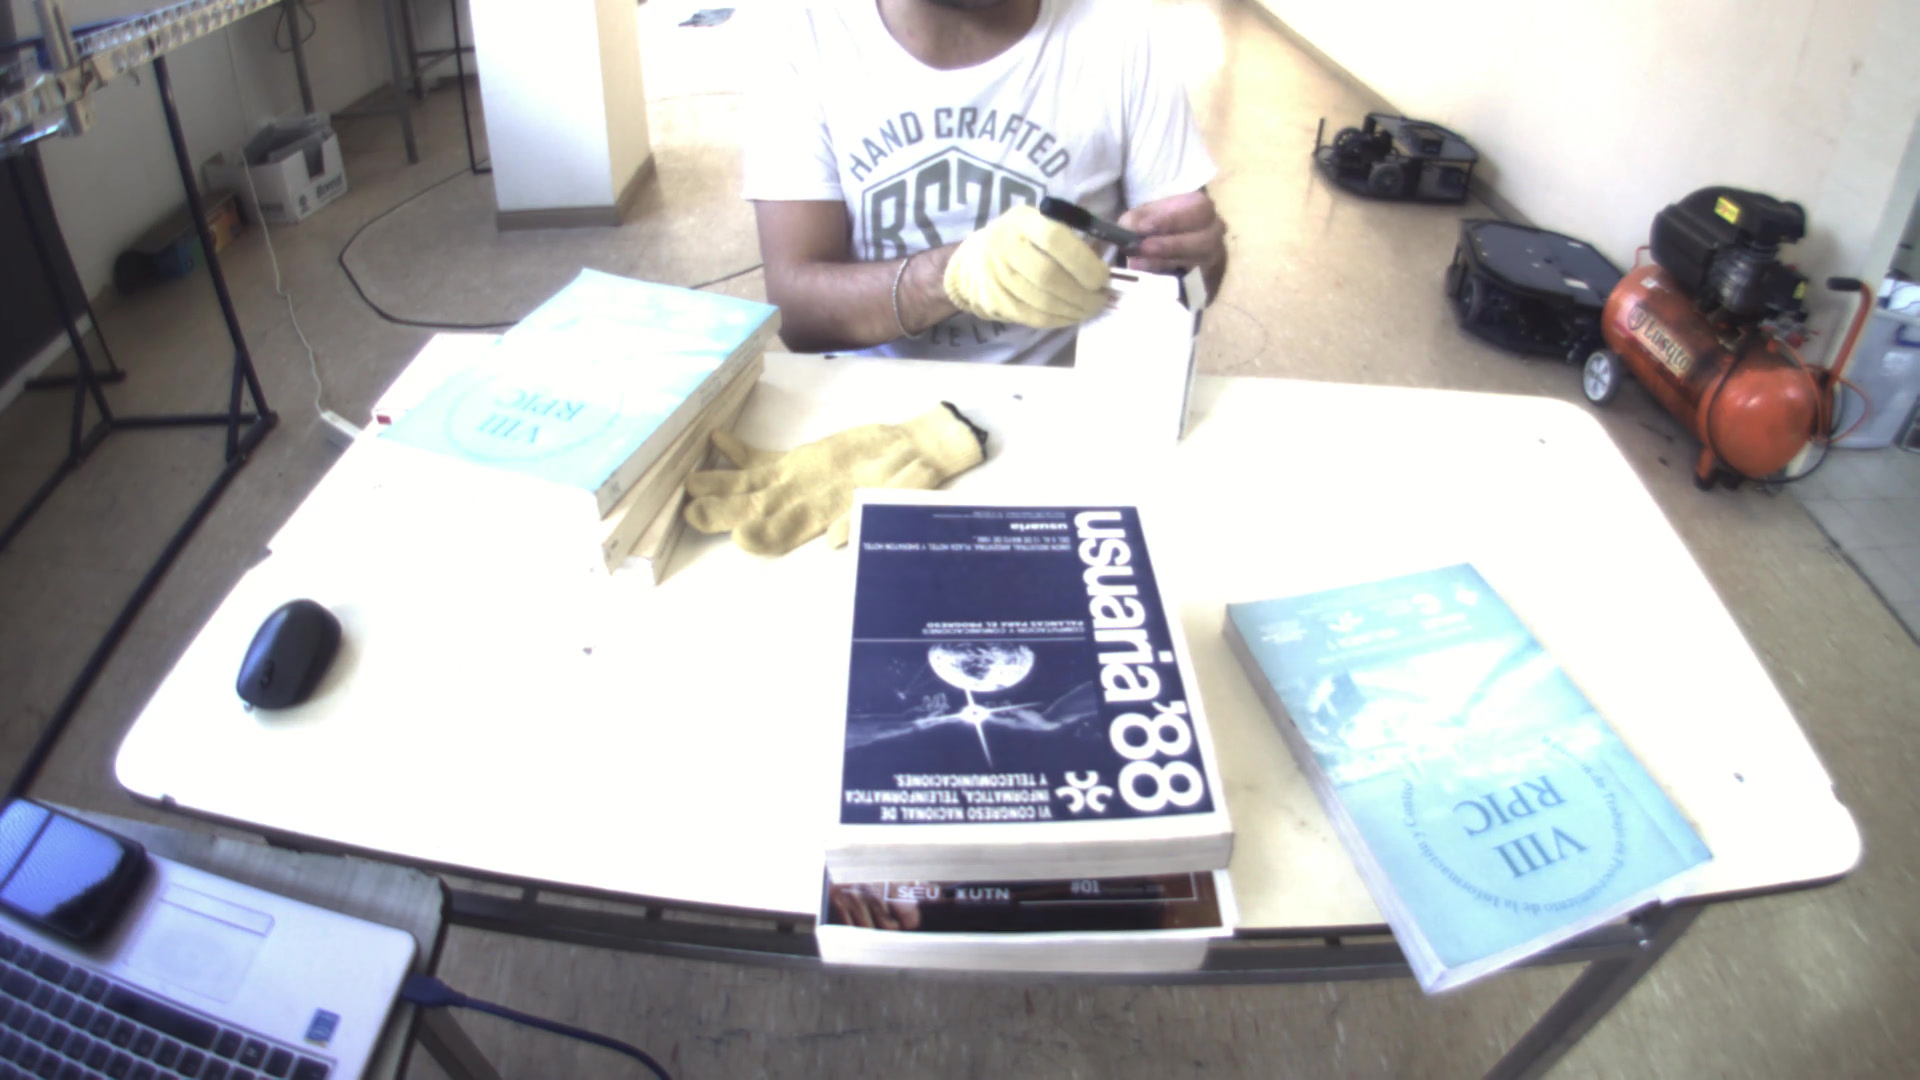hand: (931, 189, 1131, 331), (1116, 175, 1241, 286)
